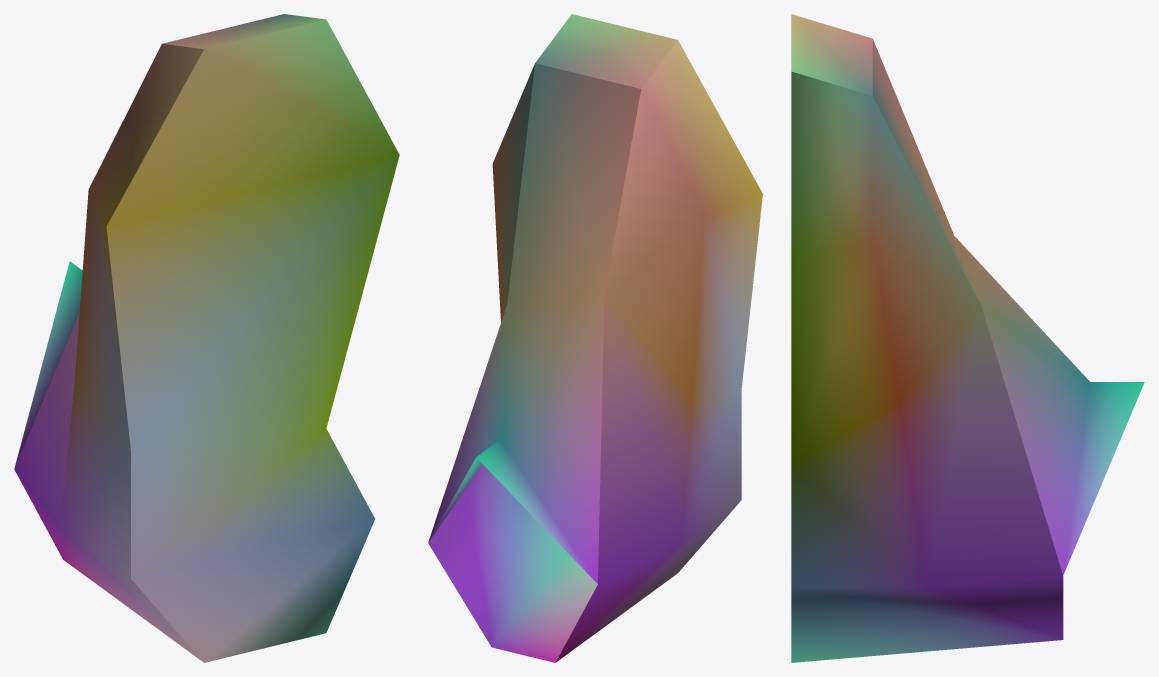
The picture shows the model from 3 angles, left to right: view 1: azimuth 30°, elevation 25°; view 2: azimuth 150°, elevation 25°; view 3: azimuth 270°, elevation 25°; orthographic projection. The views are drawn at different scales.
Parts seen in each view (by area): view 1: part; view 2: part; view 3: part.
Boxes of the visible parts, left/top/right/bottom form: part: left=14, top=14, right=399, bottom=662; part: left=428, top=14, right=762, bottom=662; part: left=791, top=14, right=1144, bottom=662.
Size of the model in its own units: 12 by 24 by 13.
